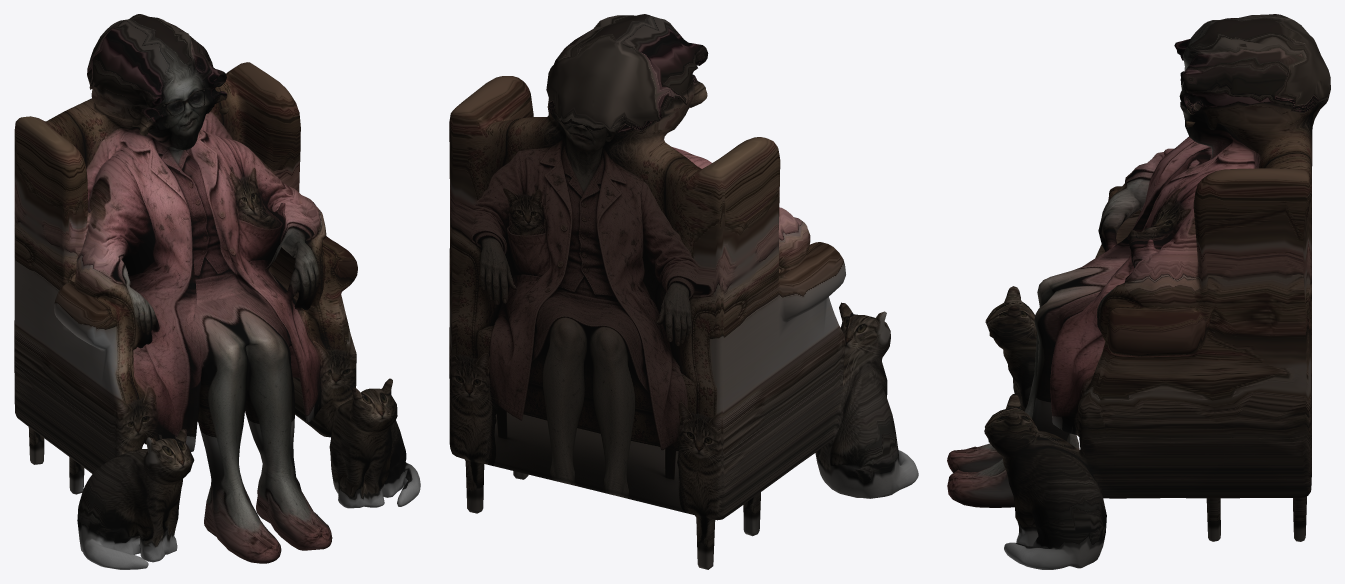
Rendered from fig_katze.glb.
The picture shows the model from 3 angles, left to right: view 1: azimuth 30°, elevation 25°; view 2: azimuth 150°, elevation 25°; view 3: azimuth 270°, elevation 25°; orthographic projection. The views are drawn at different scales.
Visible parts, largest first — view 1: katze_body; view 2: katze_body; view 3: katze_body.
Boxes of the visible parts, x1,y1,x2,y2 form: katze_body: [14, 14, 420, 569]; katze_body: [449, 14, 918, 569]; katze_body: [947, 14, 1330, 569].
Bounding box in the file's own units: 1.04 × 1.3 × 0.9768.
Materials: 1 (1 with a texture image).
